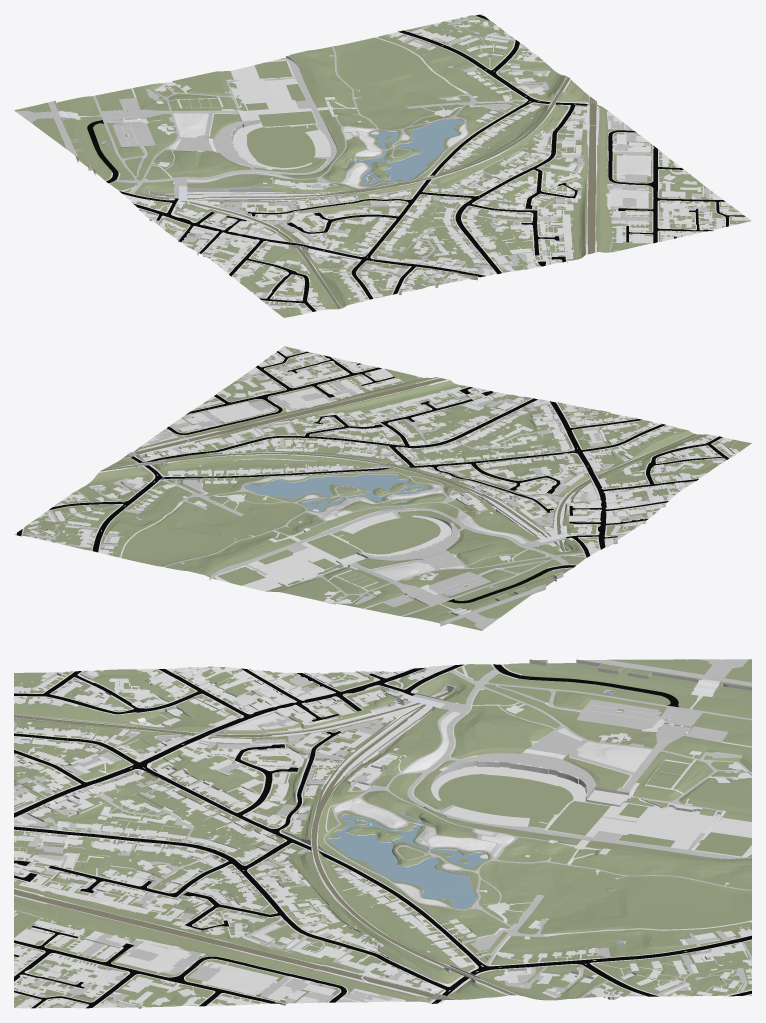
The model's file is TQ3470_Terrain_LOD_1_draco.glb.
3 renders of one model, top to bottom at view 1: azimuth 30°, elevation 25°; view 2: azimuth 150°, elevation 25°; view 3: azimuth 270°, elevation 25°, orthographic. The views are drawn at different scales.
Visible parts, largest first — view 1: TQ3470_Terrain; view 2: TQ3470_Terrain; view 3: TQ3470_Terrain.
Boxes of the visible parts, x1,y1,x2,y2 form: TQ3470_Terrain: [14, 14, 751, 317]; TQ3470_Terrain: [14, 346, 751, 630]; TQ3470_Terrain: [14, 659, 751, 1008].
Bounding box in the file's own units: 1000 × 60.49 × 1000.
1 material, 1 textured.
